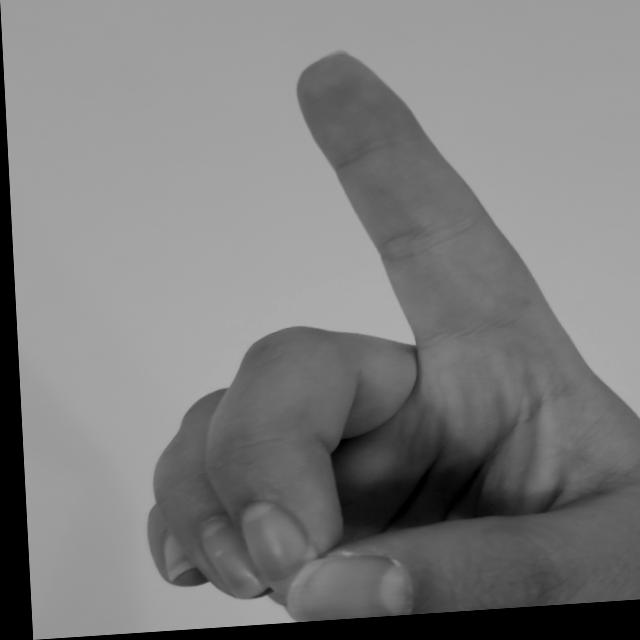D: (108, 28, 639, 634)
